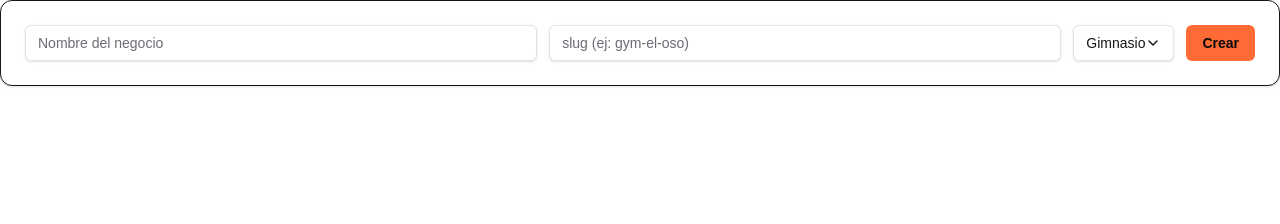
Test: CrearNegocioForm (spec alta-negocio: rubro y disciplina) › opción 'Profesor / Entrenador' queda seleccionada válidamente
The image size is (1280, 224).
Click the dropdown: [1124, 43] box 1073,25 -> 1174,61
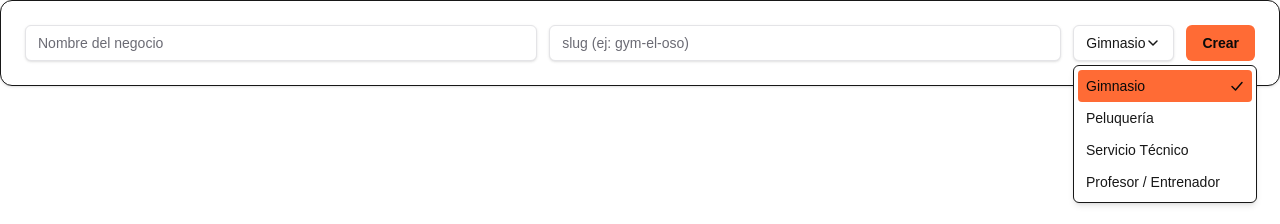
expect the option "Profesor / Entrenador" is shown: met
Click the option "Profesor / Entrenador": [1153, 182] box 1086,174 -> 1220,190
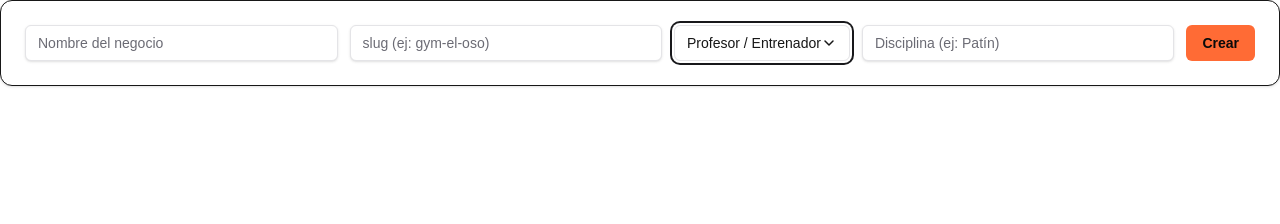
expect the dropdown reads "Profesor / Entrenador": met, box 674,25 -> 850,61
